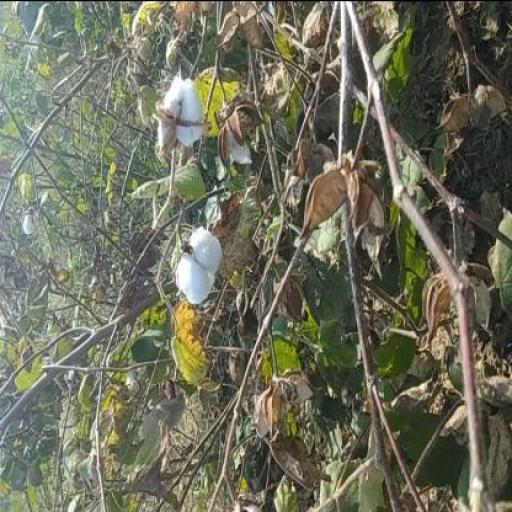cotton_ready: (163, 208, 238, 320), (154, 58, 228, 170)
